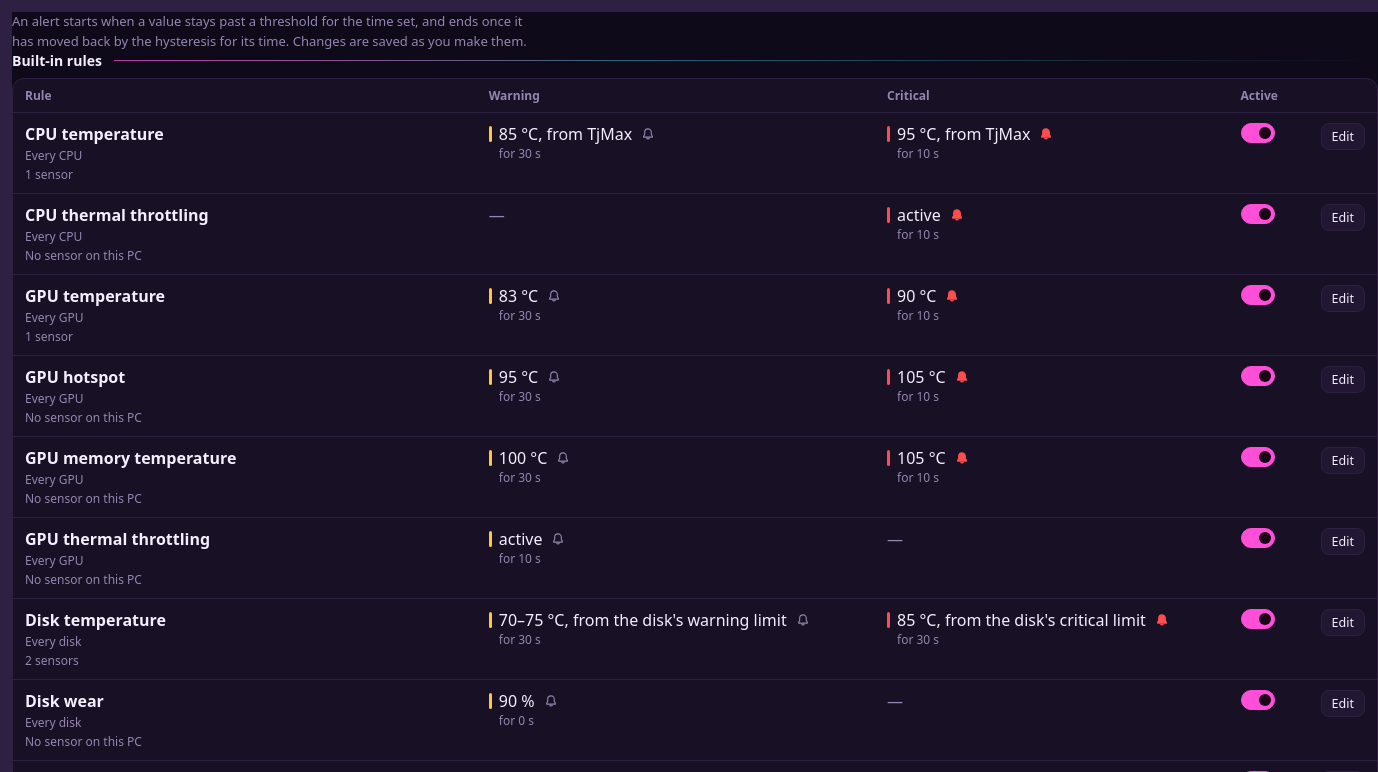
Test case: enabling a rule again drops its now-empty override
The width and height of the screenshot is (1378, 772).
Expected: the row "GPU temperature" is shown, [13, 274, 1377, 356]
Click the switch named "GPU temperature active" at x=1258, y=295, box [1241, 285, 1275, 305]
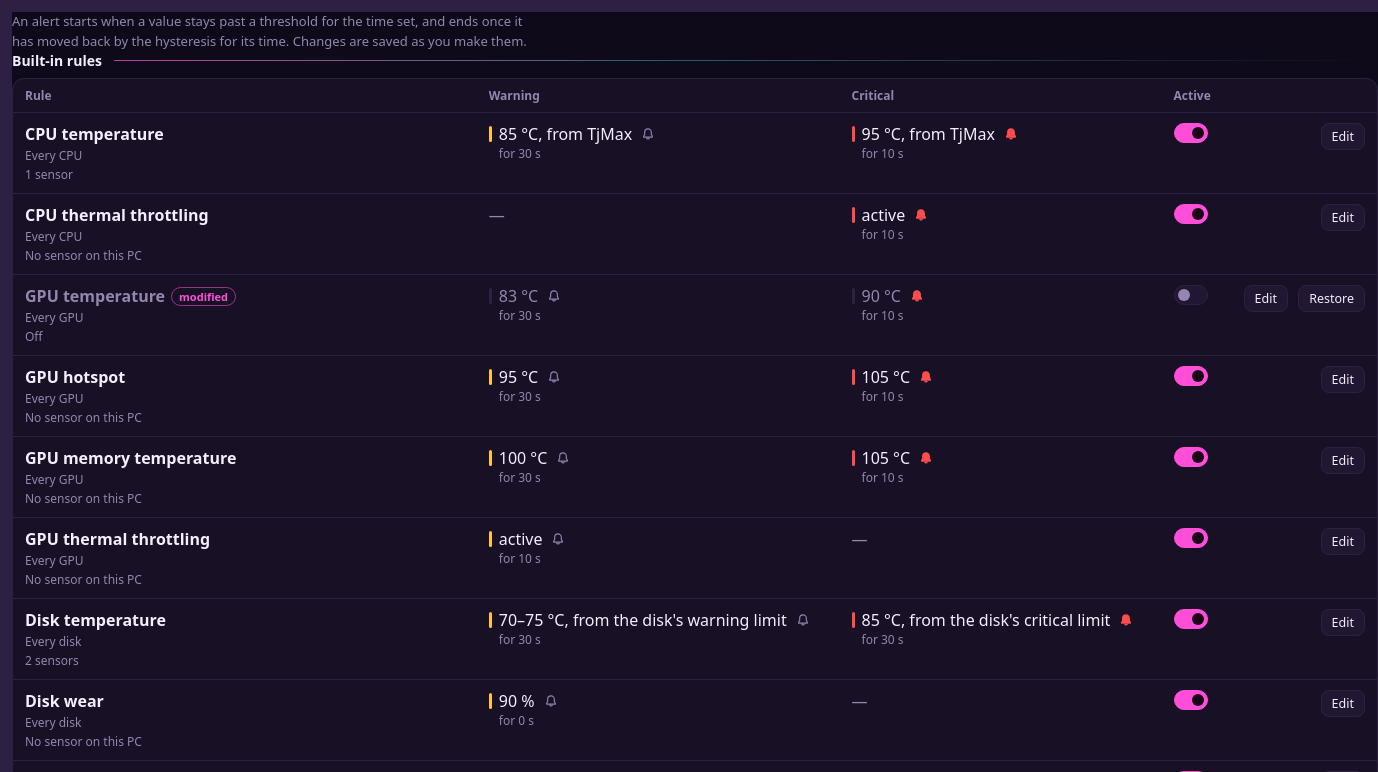
Result: the text "modified" is shown at [171, 286, 236, 306]
Click the switch named "GPU temperature active" at x=1190, y=295, box [1174, 285, 1208, 305]
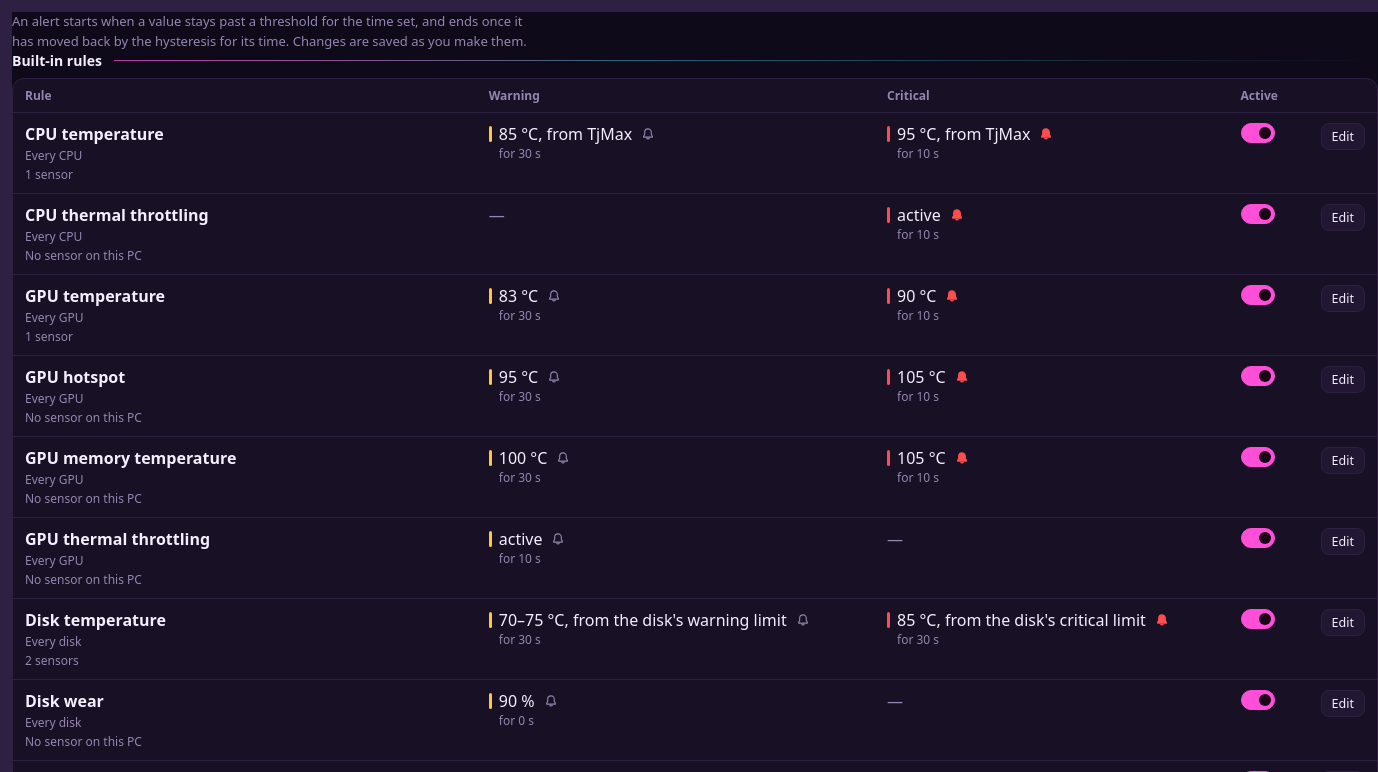
Result: the text "modified" is gone
